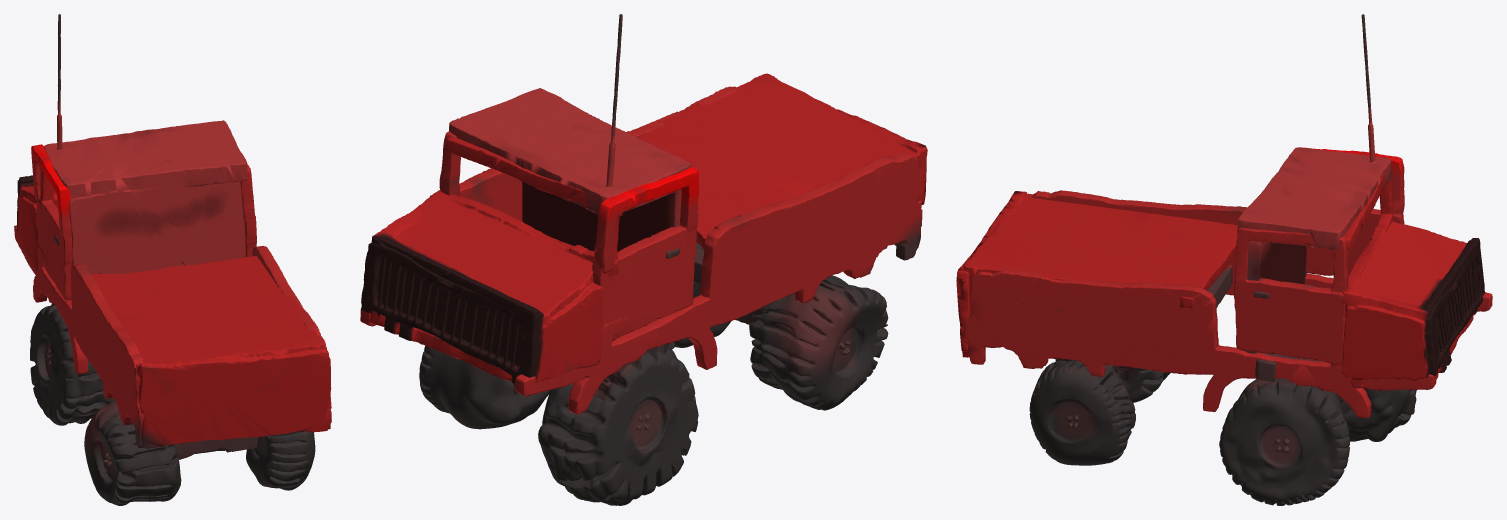
The model's file is truck2.fbx.
3 renders of one model, left to right at view 1: azimuth 30°, elevation 25°; view 2: azimuth 150°, elevation 25°; view 3: azimuth 270°, elevation 25°, orthographic. The views are drawn at different scales.
Parts seen in each view (by area): view 1: wheels, Layer_3, Layer_2, Layer_1; view 2: wheels, Layer_3, Layer_2, Layer_1, Layer_5; view 3: wheels, Layer_3, Layer_1, Layer_2, Layer_5.
Boxes of the visible parts, box(x1,y1,x2,y2) form: wheels: box(30, 14, 315, 505); Layer_3: box(17, 167, 331, 448); Layer_2: box(14, 144, 144, 447); Layer_1: box(240, 163, 331, 429); wheels: box(419, 14, 888, 505); Layer_3: box(361, 73, 927, 383); Layer_2: box(515, 152, 922, 414); Layer_1: box(360, 82, 748, 344); Layer_5: box(371, 235, 540, 319); wheels: box(1029, 14, 1416, 505); Layer_3: box(956, 173, 1484, 388); Layer_1: box(964, 227, 1436, 418); Layer_2: box(1031, 147, 1492, 311); Layer_5: box(1423, 238, 1480, 317).
Bounding box in the file's own units: 1.32 × 2.22 × 1.9.
